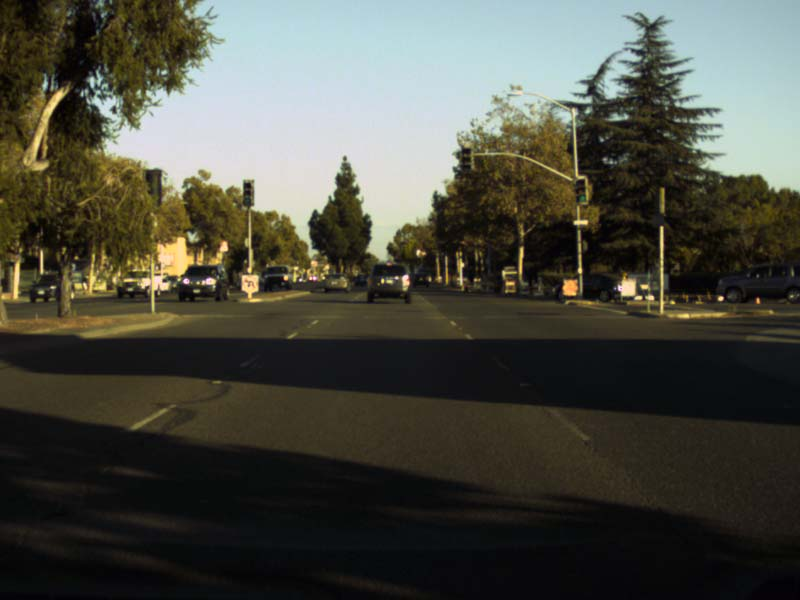Green: (575, 177, 587, 203), (243, 180, 254, 206)
